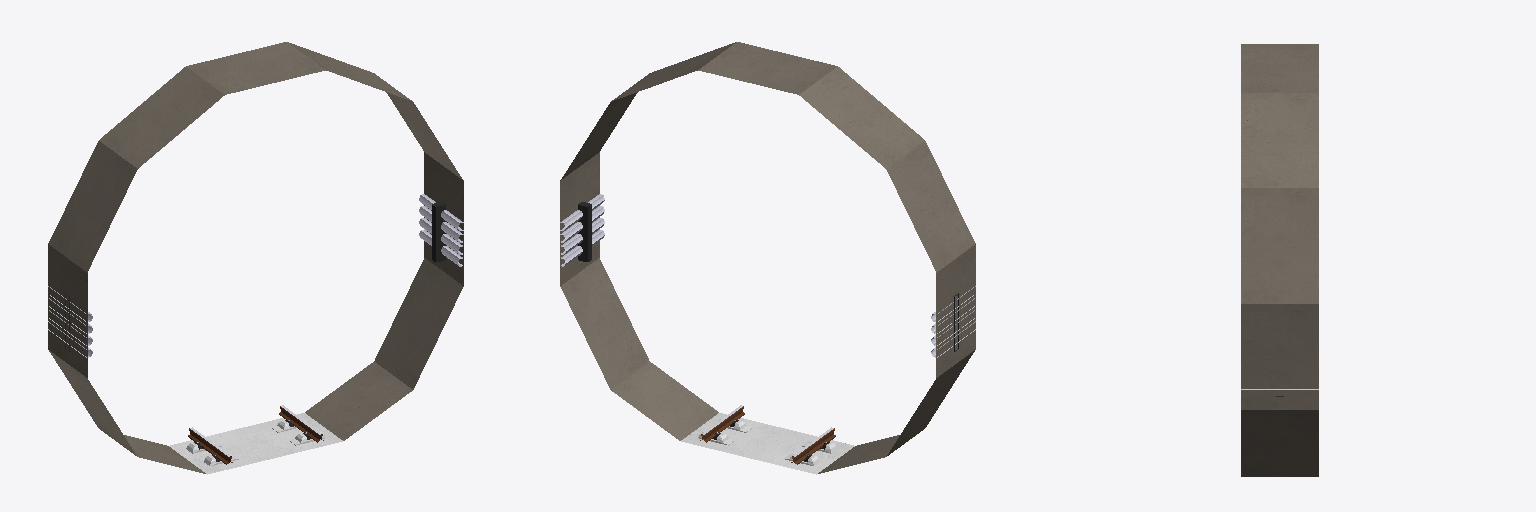
3 renders of one model, left to right at view 1: azimuth 30°, elevation 25°; view 2: azimuth 150°, elevation 25°; view 3: azimuth 270°, elevation 25°, orthographic.
Parts seen in each view (by area): view 1: tube, cuboid, cylinder; view 2: tube, cuboid, cylinder; view 3: tube.
Part boxes in pixels (bbox=[...]): tube: bbox=[48, 42, 463, 474]; cuboid: bbox=[65, 202, 445, 465]; cylinder: bbox=[48, 194, 463, 455]; tube: bbox=[560, 42, 975, 474]; cuboid: bbox=[578, 202, 958, 465]; cylinder: bbox=[560, 194, 975, 455]; tube: bbox=[1241, 44, 1318, 476].
Size of the model in its own units: 6.25 by 5.93 by 1.12.
Materials: 6 (5 with a texture image).